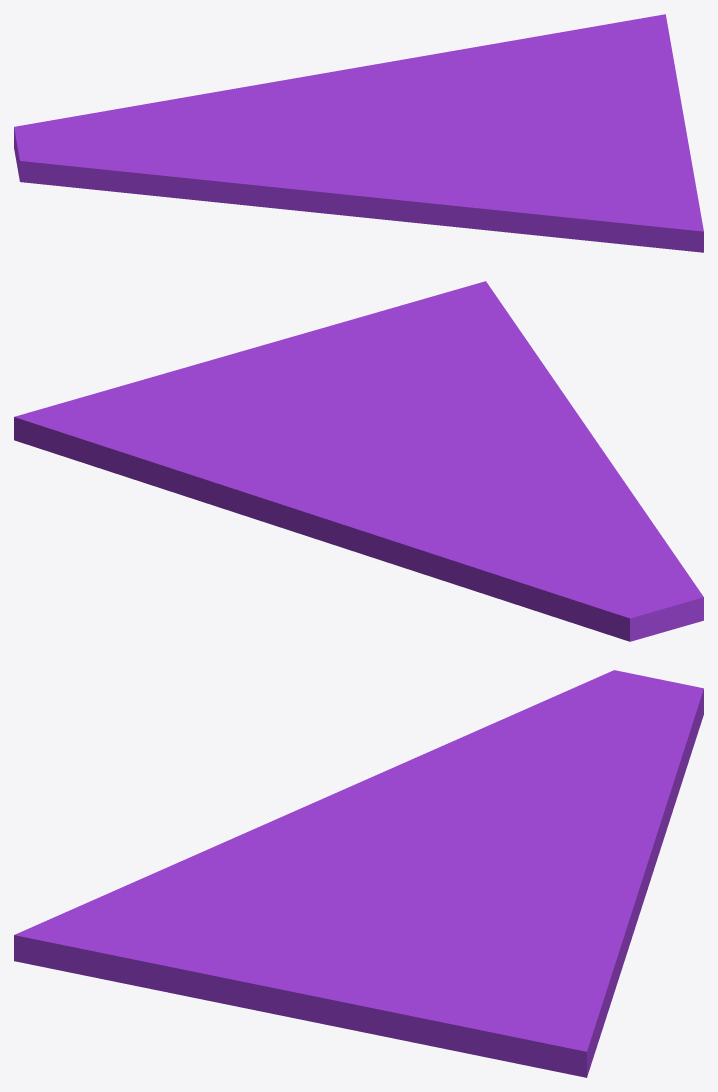
File: StairsStep_4_chunks.fbx
3 views of the same model, one above another, from view 1: azimuth 30°, elevation 25°; view 2: azimuth 150°, elevation 25°; view 3: azimuth 270°, elevation 25° (orthographic). The views are drawn at different scales.
Parts seen in each view (by area): view 1: StairsStep_4_1, StairsStep_4_3, StairsStep_4_2, StairsStep_4_0; view 2: StairsStep_4_1, StairsStep_4_2, StairsStep_4_3, StairsStep_4_0; view 3: StairsStep_4_1, StairsStep_4_3, StairsStep_4_2, StairsStep_4_0.
Boxes of the visible parts, left/top/right/bottom form: StairsStep_4_1: left=323, top=14, right=692, bottom=165; StairsStep_4_3: left=244, top=134, right=703, bottom=252; StairsStep_4_2: left=14, top=77, right=335, bottom=205; StairsStep_4_0: left=299, top=73, right=376, bottom=138; StairsStep_4_1: left=14, top=322, right=446, bottom=550; StairsStep_4_2: left=351, top=481, right=703, bottom=641; StairsStep_4_3: left=342, top=281, right=632, bottom=493; StairsStep_4_0: left=338, top=467, right=478, bottom=534; StairsStep_4_1: left=180, top=847, right=650, bottom=1077; StairsStep_4_3: left=14, top=757, right=474, bottom=994; StairsStep_4_2: left=418, top=670, right=703, bottom=877; StairsStep_4_0: left=461, top=826, right=652, bottom=860.
Size of the model in its own units: 564 by 17.94 by 430.
